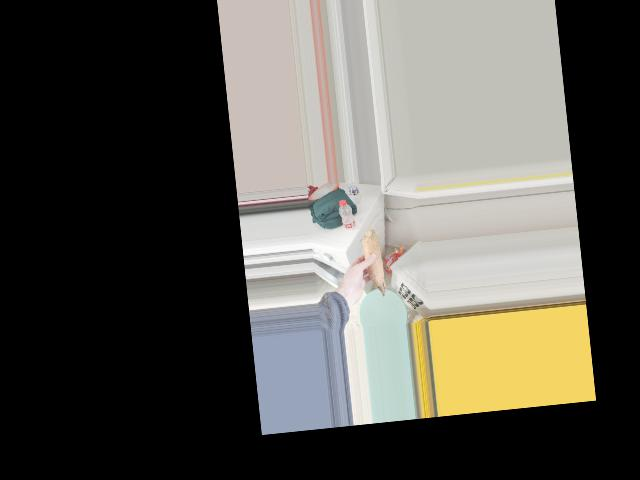sweet_potato: (360, 230, 391, 297)
